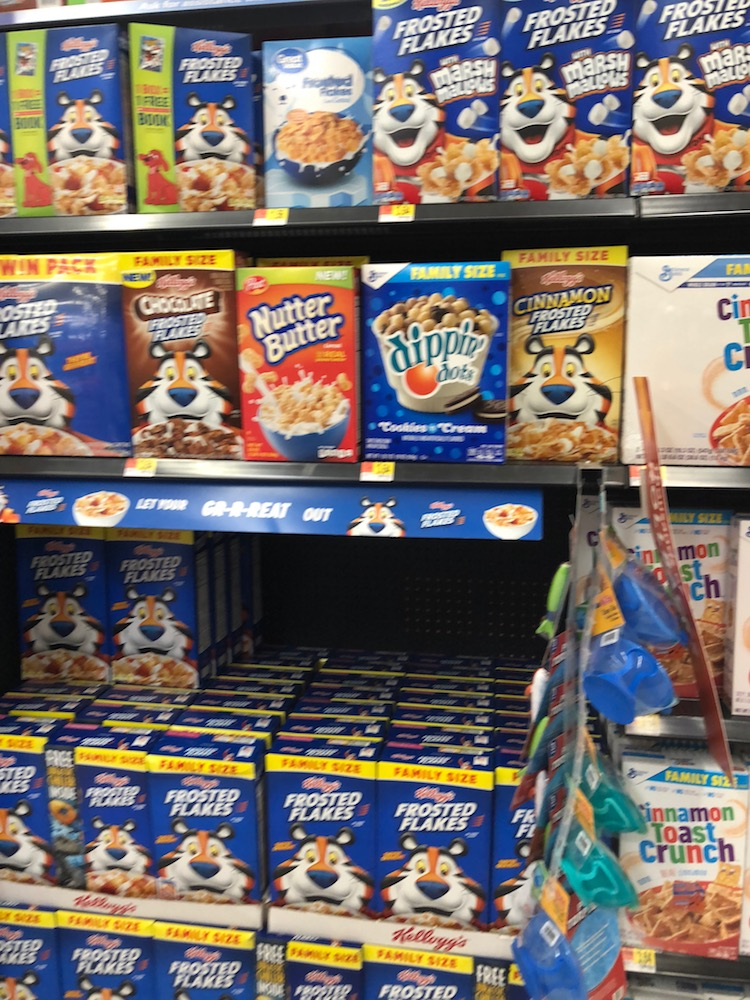Dippin Dots Cookies & Cream -568929378: (363, 272, 507, 460)
Nutter Butter-565717511: (231, 265, 358, 465)
